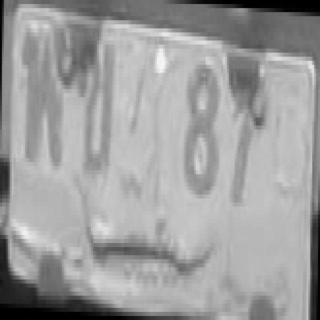A02: (72, 22, 120, 193)
A31: (14, 3, 72, 188)
N07: (224, 39, 278, 230)
N08: (178, 47, 226, 218)
